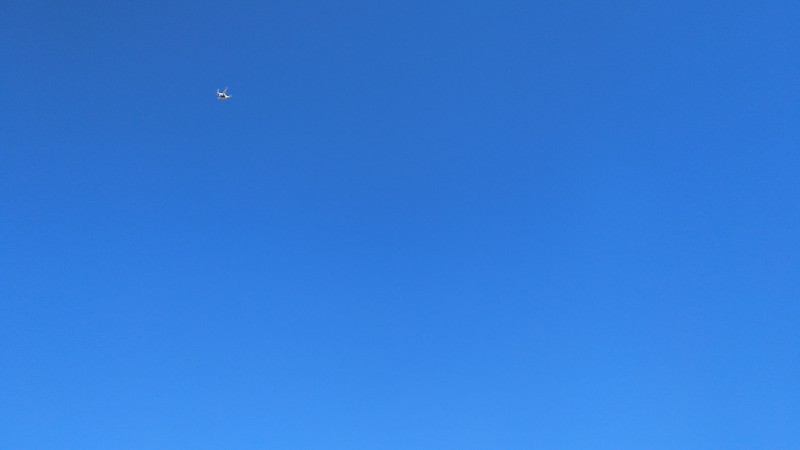drone: (213, 85, 231, 102)
